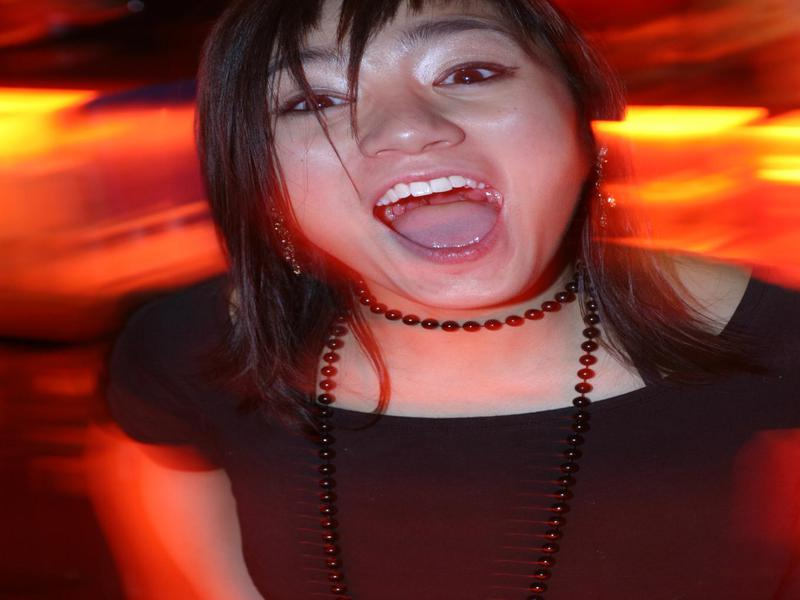person: (110, 1, 793, 600)
